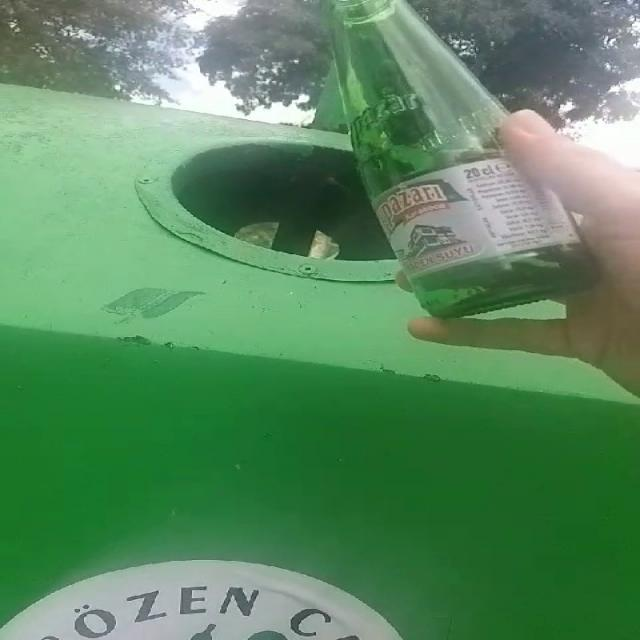glass: (330, 0, 591, 315)
